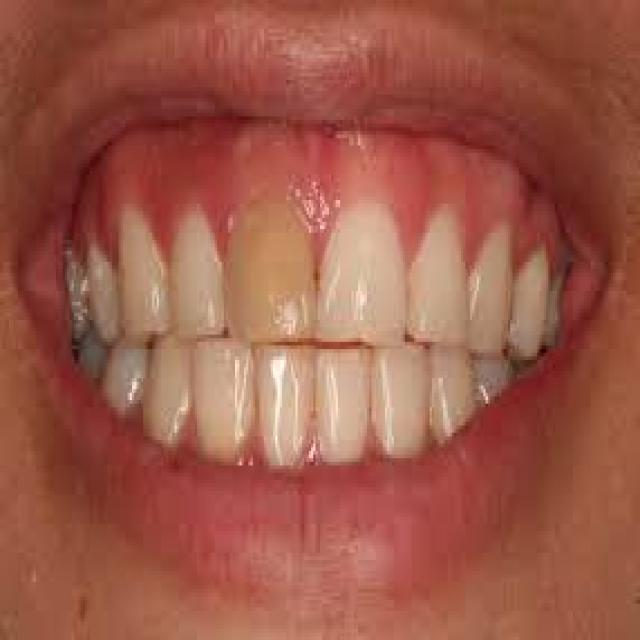Tooth Discoloration: (224, 202, 311, 340)
